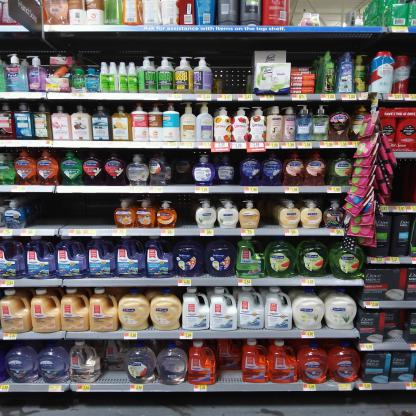Void: (26, 194, 109, 225), (218, 56, 248, 89), (393, 168, 413, 203), (181, 199, 194, 227), (264, 199, 274, 225), (108, 370, 124, 384), (223, 371, 240, 383)
